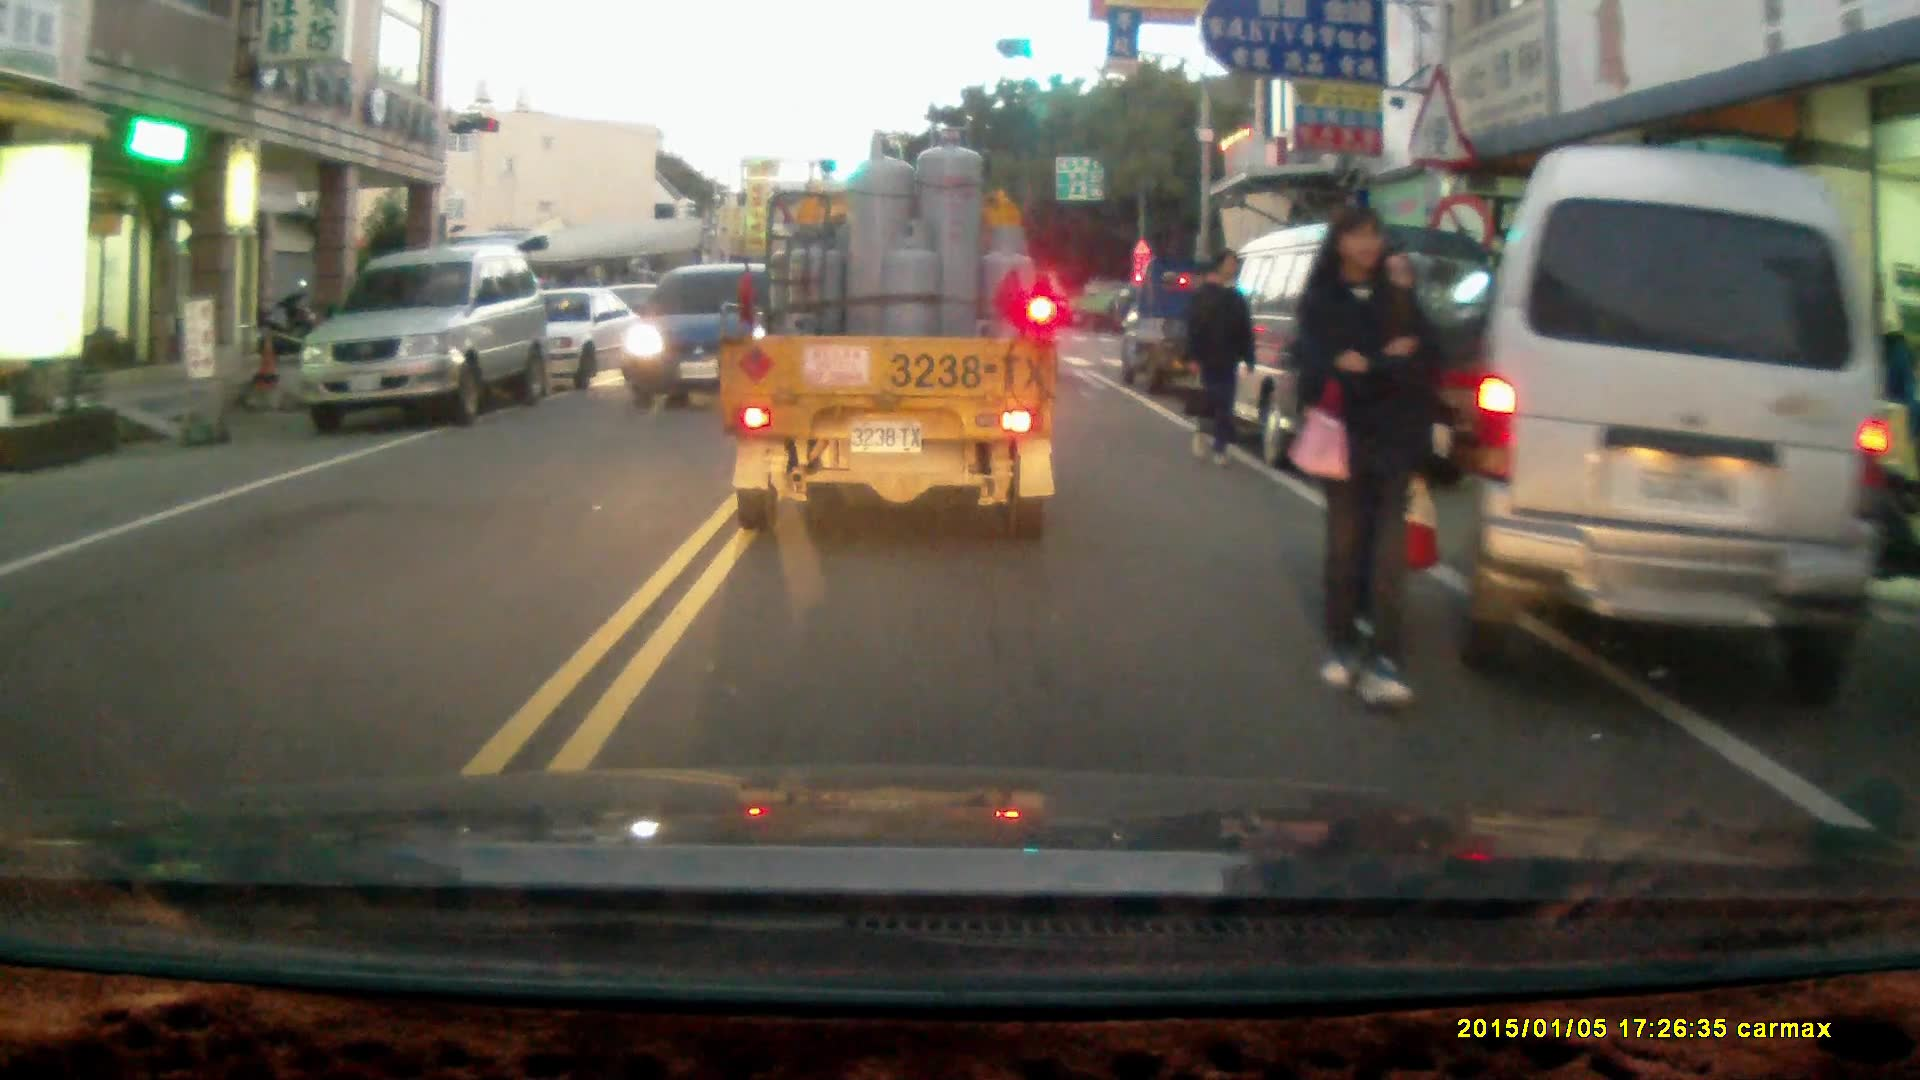pedestrian: (1292, 203, 1434, 709), (1178, 248, 1255, 472)
vehicle: (1457, 147, 1882, 702), (714, 127, 1057, 533), (1196, 214, 1509, 477), (303, 245, 555, 438), (620, 263, 772, 412), (1120, 250, 1244, 399), (486, 288, 645, 397)
